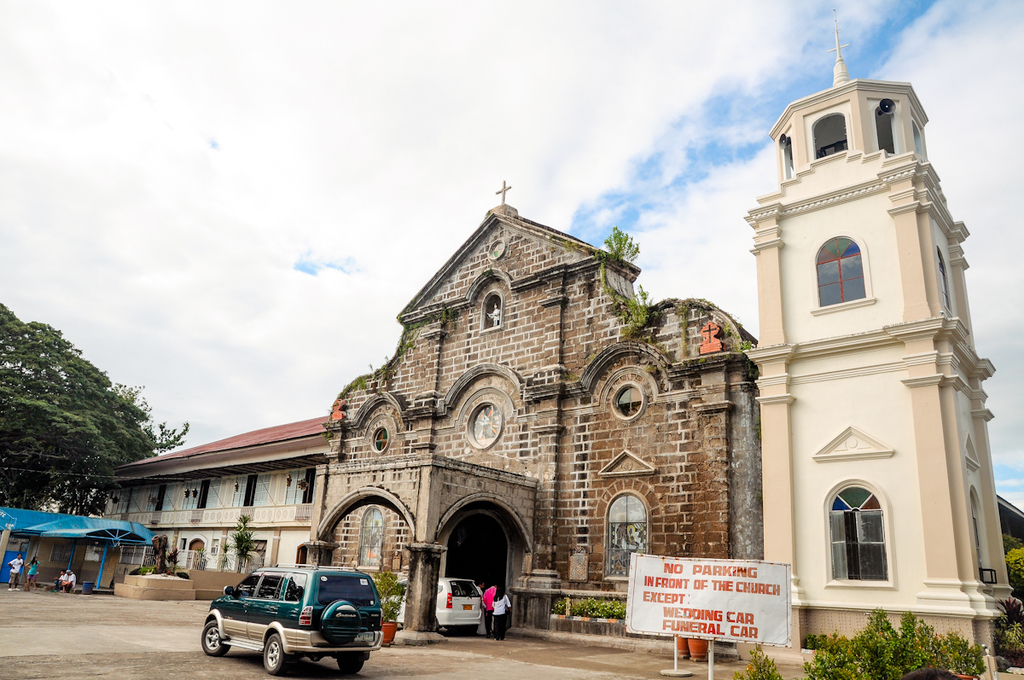Car: (202, 555, 379, 679), (381, 578, 485, 636)
